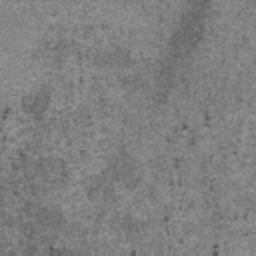Oxide scale of temperature system: (22, 91, 50, 120), (122, 215, 135, 231), (46, 41, 66, 51), (50, 246, 65, 256), (2, 106, 11, 120), (19, 152, 28, 162), (212, 244, 219, 256)
